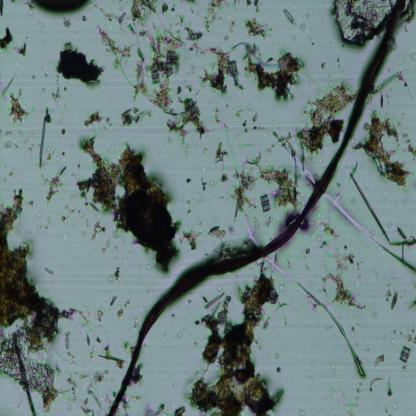Background material: (80, 132, 186, 274), (182, 267, 282, 416), (0, 180, 67, 348), (274, 70, 355, 164), (99, 22, 179, 112), (233, 35, 304, 106), (0, 336, 51, 416), (362, 105, 414, 183), (324, 246, 371, 316), (256, 154, 308, 214), (349, 168, 391, 239), (52, 39, 105, 93), (331, 0, 389, 48), (367, 62, 412, 104), (233, 160, 260, 226), (157, 104, 210, 137), (0, 80, 34, 130), (224, 103, 264, 142), (200, 46, 230, 94), (36, 104, 56, 172), (121, 0, 172, 25), (57, 303, 95, 332), (44, 164, 70, 206), (174, 21, 207, 52), (91, 216, 115, 254), (212, 217, 234, 253), (50, 367, 72, 403), (78, 107, 106, 132), (113, 108, 148, 127), (201, 0, 220, 33), (390, 229, 416, 252), (101, 345, 127, 368), (345, 385, 361, 416), (243, 18, 270, 36), (320, 222, 342, 243), (208, 109, 230, 130), (116, 296, 136, 319), (124, 395, 145, 416), (212, 143, 232, 165), (203, 291, 225, 309), (386, 289, 403, 310), (399, 327, 416, 346), (187, 226, 200, 250), (141, 404, 167, 416), (223, 16, 236, 40), (36, 212, 50, 233), (13, 42, 31, 58), (0, 28, 13, 50), (133, 367, 147, 387), (71, 383, 82, 408), (281, 9, 298, 24), (369, 376, 384, 391), (386, 375, 395, 398), (96, 306, 106, 325), (181, 136, 190, 155), (276, 276, 286, 292), (108, 270, 120, 283), (260, 315, 271, 329), (250, 0, 261, 13), (275, 301, 288, 312), (175, 403, 186, 416), (83, 333, 93, 346), (44, 263, 54, 275), (407, 298, 416, 311), (201, 174, 208, 190), (60, 20, 71, 30), (375, 356, 387, 365), (221, 174, 229, 186), (184, 201, 192, 213), (305, 245, 312, 258), (109, 296, 119, 305), (0, 0, 5, 16), (6, 170, 16, 178), (286, 256, 292, 269), (5, 140, 14, 148), (58, 214, 69, 220), (319, 61, 326, 70), (310, 302, 316, 312), (182, 177, 192, 183), (95, 334, 102, 342), (28, 199, 35, 207), (298, 409, 306, 416), (61, 127, 67, 136), (178, 329, 183, 339), (276, 366, 282, 374), (165, 339, 170, 348), (384, 409, 390, 416), (90, 349, 96, 356), (194, 319, 199, 326), (148, 262, 150, 271)
Cotton: (110, 0, 407, 416), (79, 372, 110, 416)
Diatom: (228, 59, 238, 86), (186, 96, 198, 117), (165, 47, 177, 66), (399, 345, 410, 363), (260, 194, 270, 212), (216, 310, 228, 325), (152, 69, 162, 84), (65, 332, 69, 350)
Glass filter fibre: (288, 276, 366, 378), (323, 194, 416, 270)
Pen: (27, 0, 95, 18)
